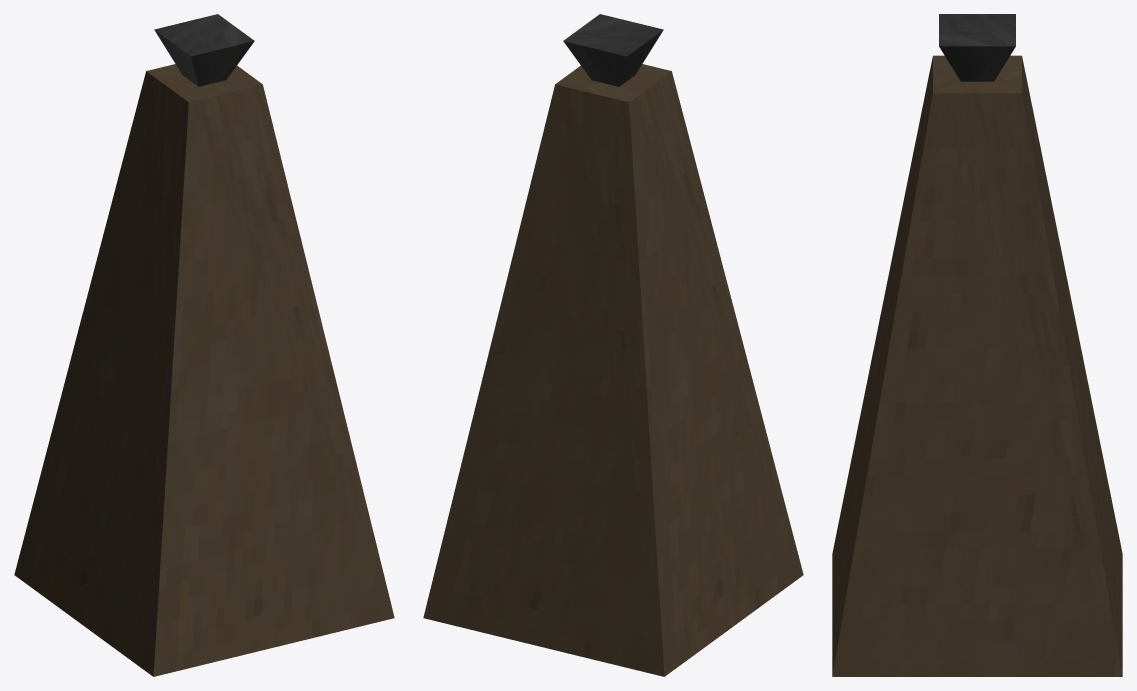
The model's file is torch.glb.
3 views of the same model, side by side, from view 1: azimuth 30°, elevation 25°; view 2: azimuth 150°, elevation 25°; view 3: azimuth 270°, elevation 25° (orthographic). The views are drawn at different scales.
Visible parts, largest first — view 1: torch-col; view 2: torch-col; view 3: torch-col.
Boxes of the visible parts, x1=… form: torch-col: x1=14, y1=14, x2=394, y2=676; torch-col: x1=423, y1=14, x2=803, y2=676; torch-col: x1=832, y1=14, x2=1122, y2=676.
Bounding box in the file's own units: 0.6024 × 1.34 × 0.6024.
2 materials, 2 textured.
